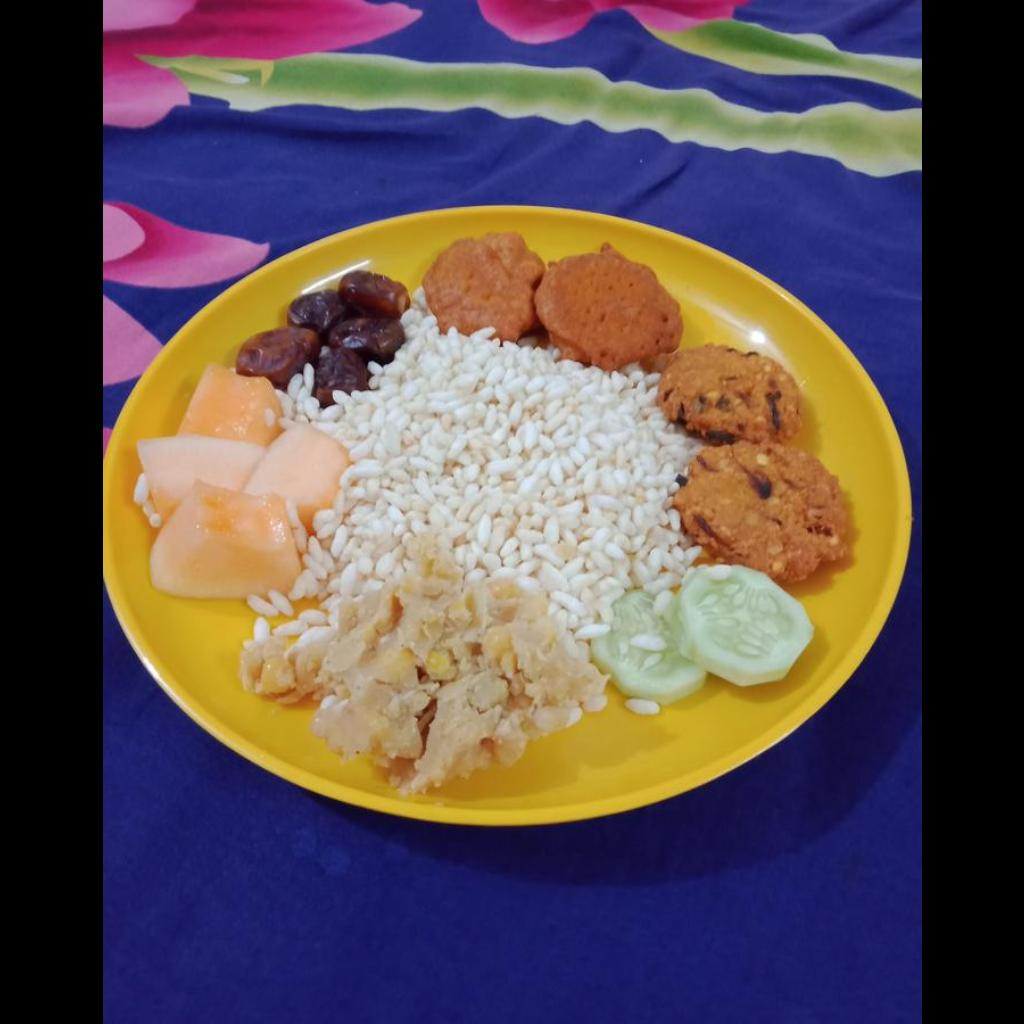chop-alu: (427, 232, 682, 368)
cucumber: (601, 563, 811, 692)
daal: (241, 537, 605, 791)
dates: (236, 269, 406, 398)
peyaju: (653, 349, 855, 579)
puffed-rice: (284, 291, 696, 631)
watermelon: (141, 361, 349, 597)
